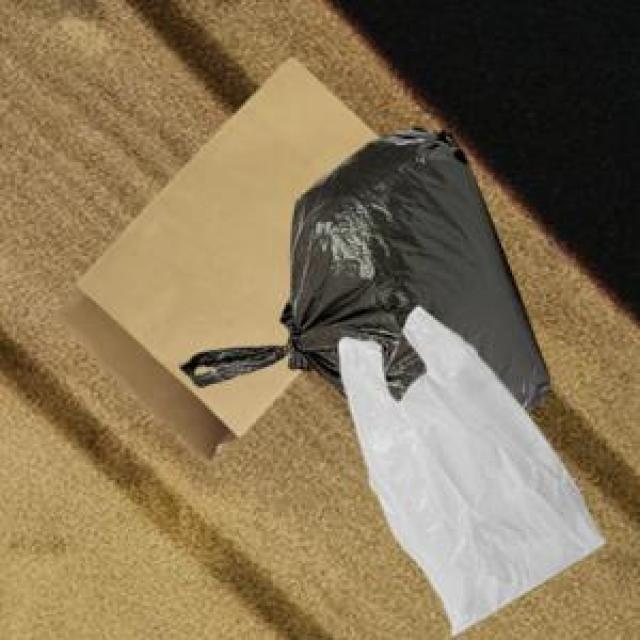miscellaneous trash: (177, 124, 546, 408)
paper: (53, 53, 376, 454)
